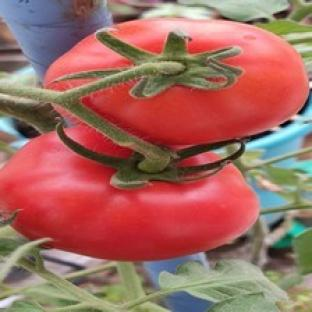Tomato: (0, 133, 259, 260), (81, 19, 309, 144)
